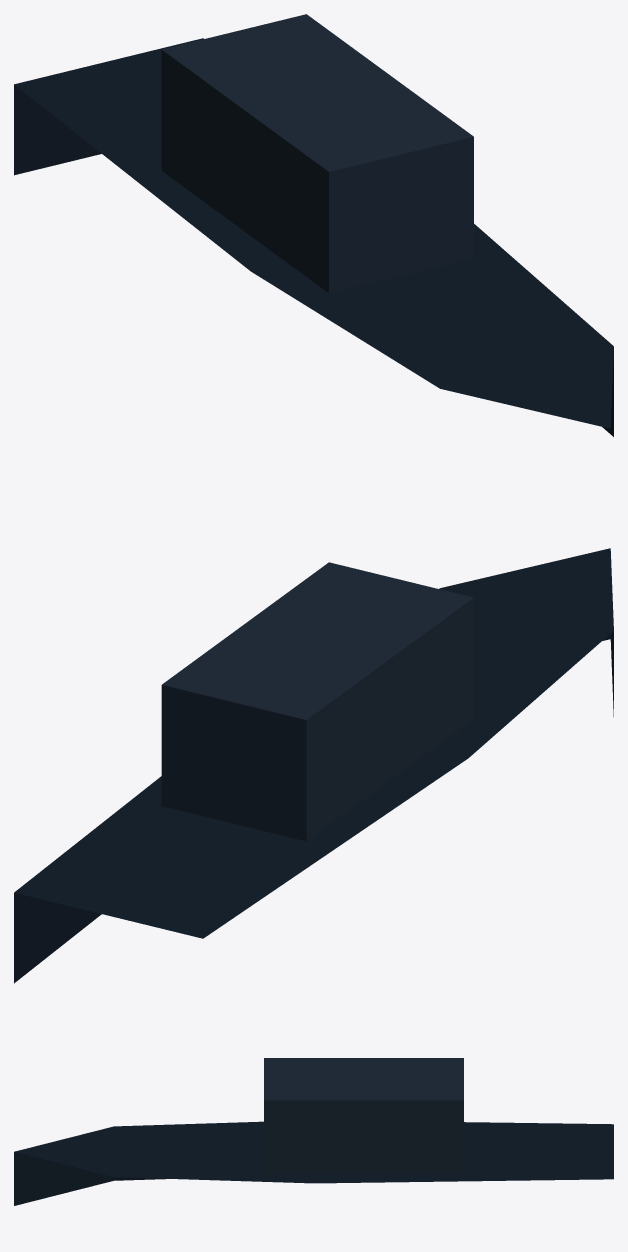
File: patrol_interceptor.glb
3 renders of one model, top to bottom at view 1: azimuth 30°, elevation 25°; view 2: azimuth 150°, elevation 25°; view 3: azimuth 270°, elevation 25°, orthographic. The views are drawn at different scales.
Visible parts, largest first — view 1: patrol_interceptor_hull; view 2: patrol_interceptor_hull; view 3: patrol_interceptor_hull.
Part boxes in pixels (x1=…): patrol_interceptor_hull: x1=14, y1=14, x2=613, y2=436; patrol_interceptor_hull: x1=14, y1=548, x2=613, y2=983; patrol_interceptor_hull: x1=14, y1=1058, x2=613, y2=1205.
Bounding box in the file's own units: 3 × 2.8 × 12.
Materials: 1 (1 with a texture image).
